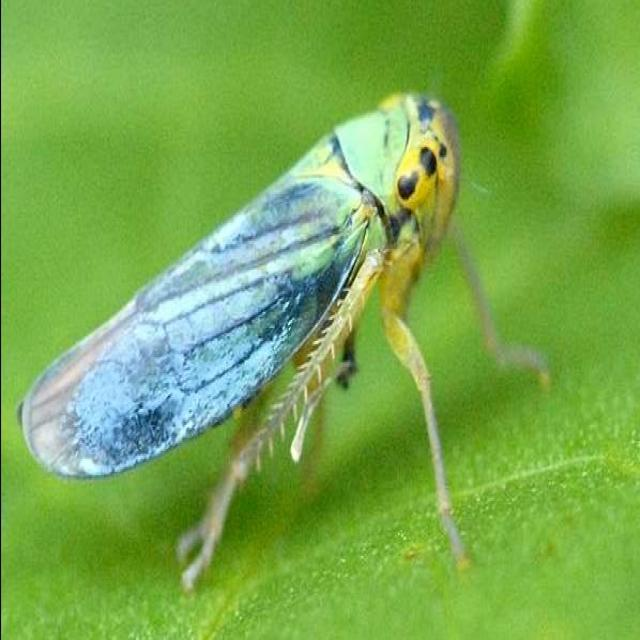Yechan: (18, 81, 553, 602)
